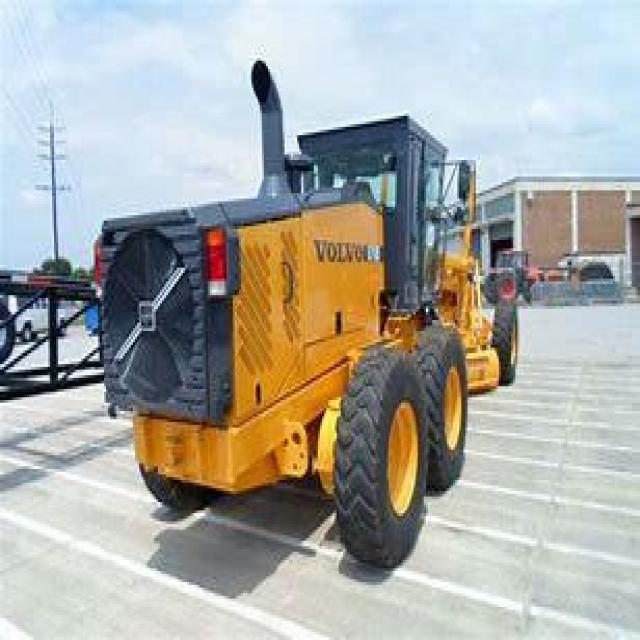buldozerpayloadergrader: (104, 63, 584, 571)
